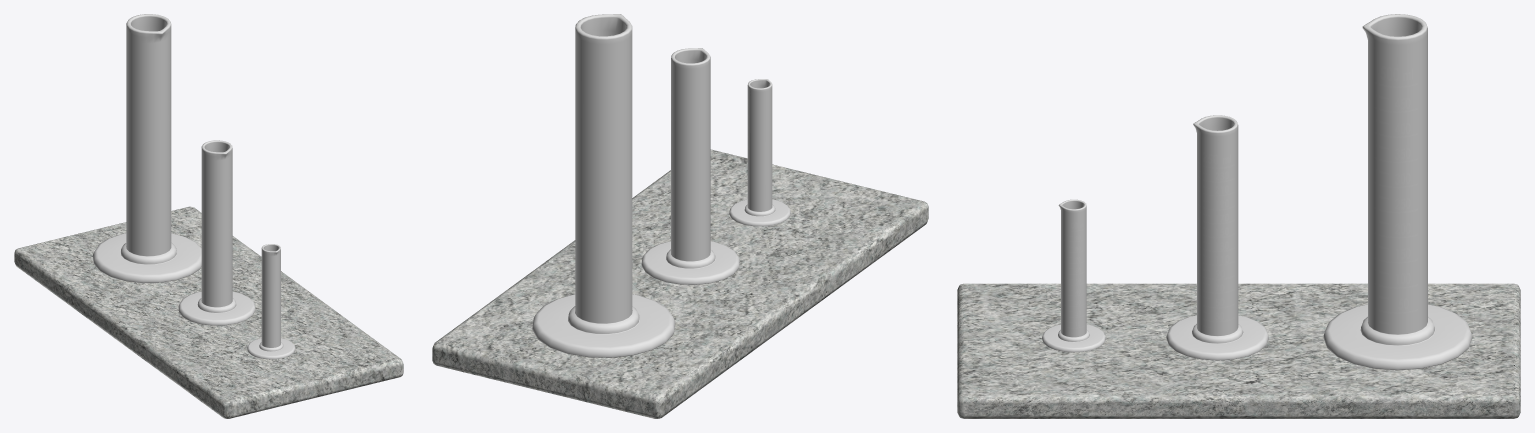
3 views of the same model, side by side, from view 1: azimuth 30°, elevation 25°; view 2: azimuth 150°, elevation 25°; view 3: azimuth 270°, elevation 25° (orthographic). The views are drawn at different scales.
Visible parts, largest first — view 1: Granite, GraduatedCylinder_500mL, GraduatedCylinder_250mL, GraduatedCylinder_100mL; view 2: Granite, GraduatedCylinder_500mL, GraduatedCylinder_250mL, GraduatedCylinder_100mL; view 3: Granite, GraduatedCylinder_500mL, GraduatedCylinder_250mL, GraduatedCylinder_100mL.
Boxes of the visible parts, box(x1,y1,x2,y2) form: Granite: box(14, 206, 403, 418); GraduatedCylinder_500mL: box(93, 14, 201, 283); GraduatedCylinder_250mL: box(178, 140, 255, 325); GraduatedCylinder_100mL: box(247, 244, 295, 359); Granite: box(432, 149, 928, 418); GraduatedCylinder_500mL: box(532, 14, 675, 357); GraduatedCylinder_250mL: box(641, 48, 739, 284); GraduatedCylinder_100mL: box(729, 79, 790, 226); Granite: box(957, 283, 1520, 418); GraduatedCylinder_500mL: box(1323, 14, 1472, 370); GraduatedCylinder_250mL: box(1166, 115, 1268, 360); GraduatedCylinder_100mL: box(1042, 199, 1105, 352).
Bounding box in the file's own units: 0.3149 × 0.4256 × 0.6436.
2 materials, 2 textured.
